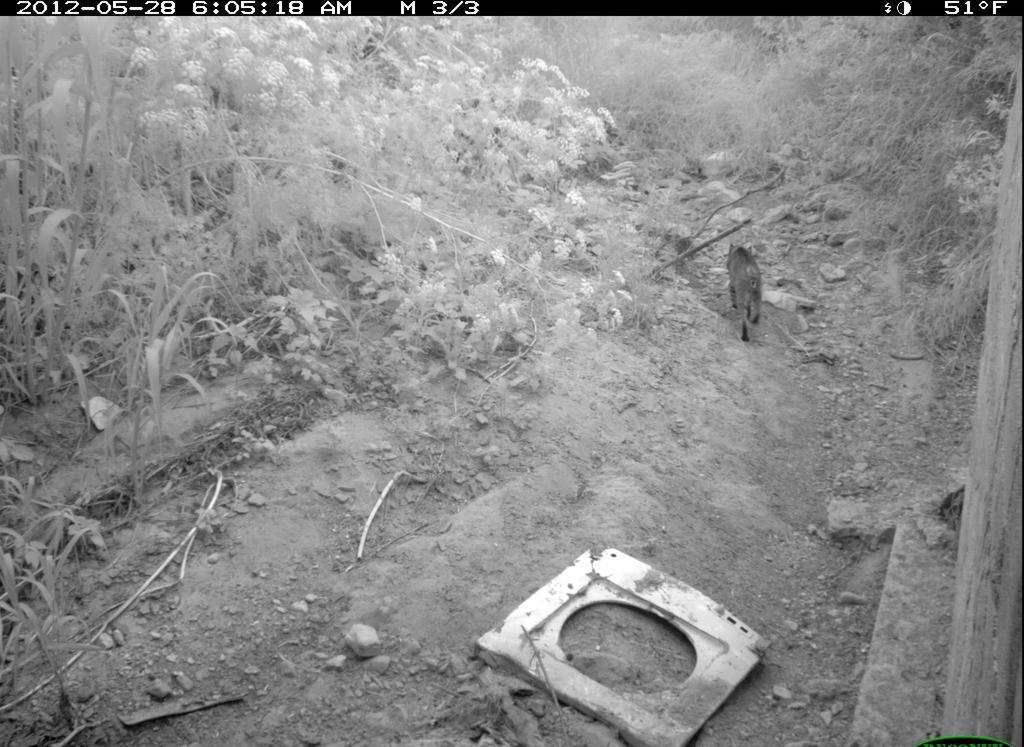bobcat: (724, 243, 774, 351)
